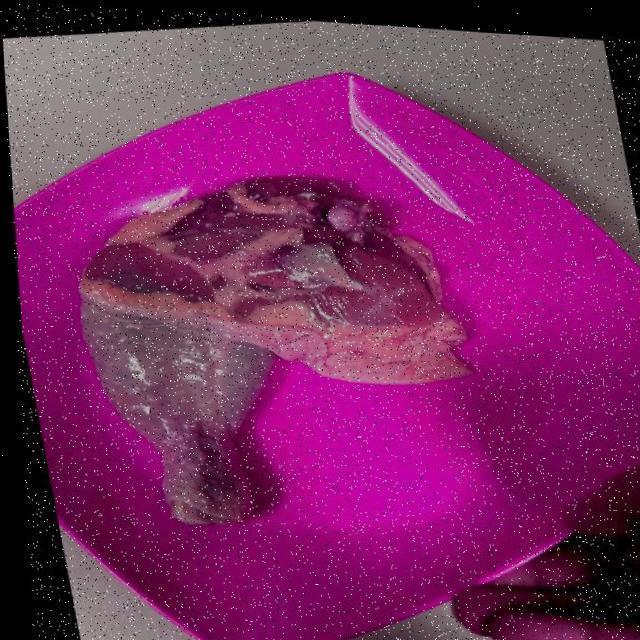quater: (66, 178, 424, 530)
